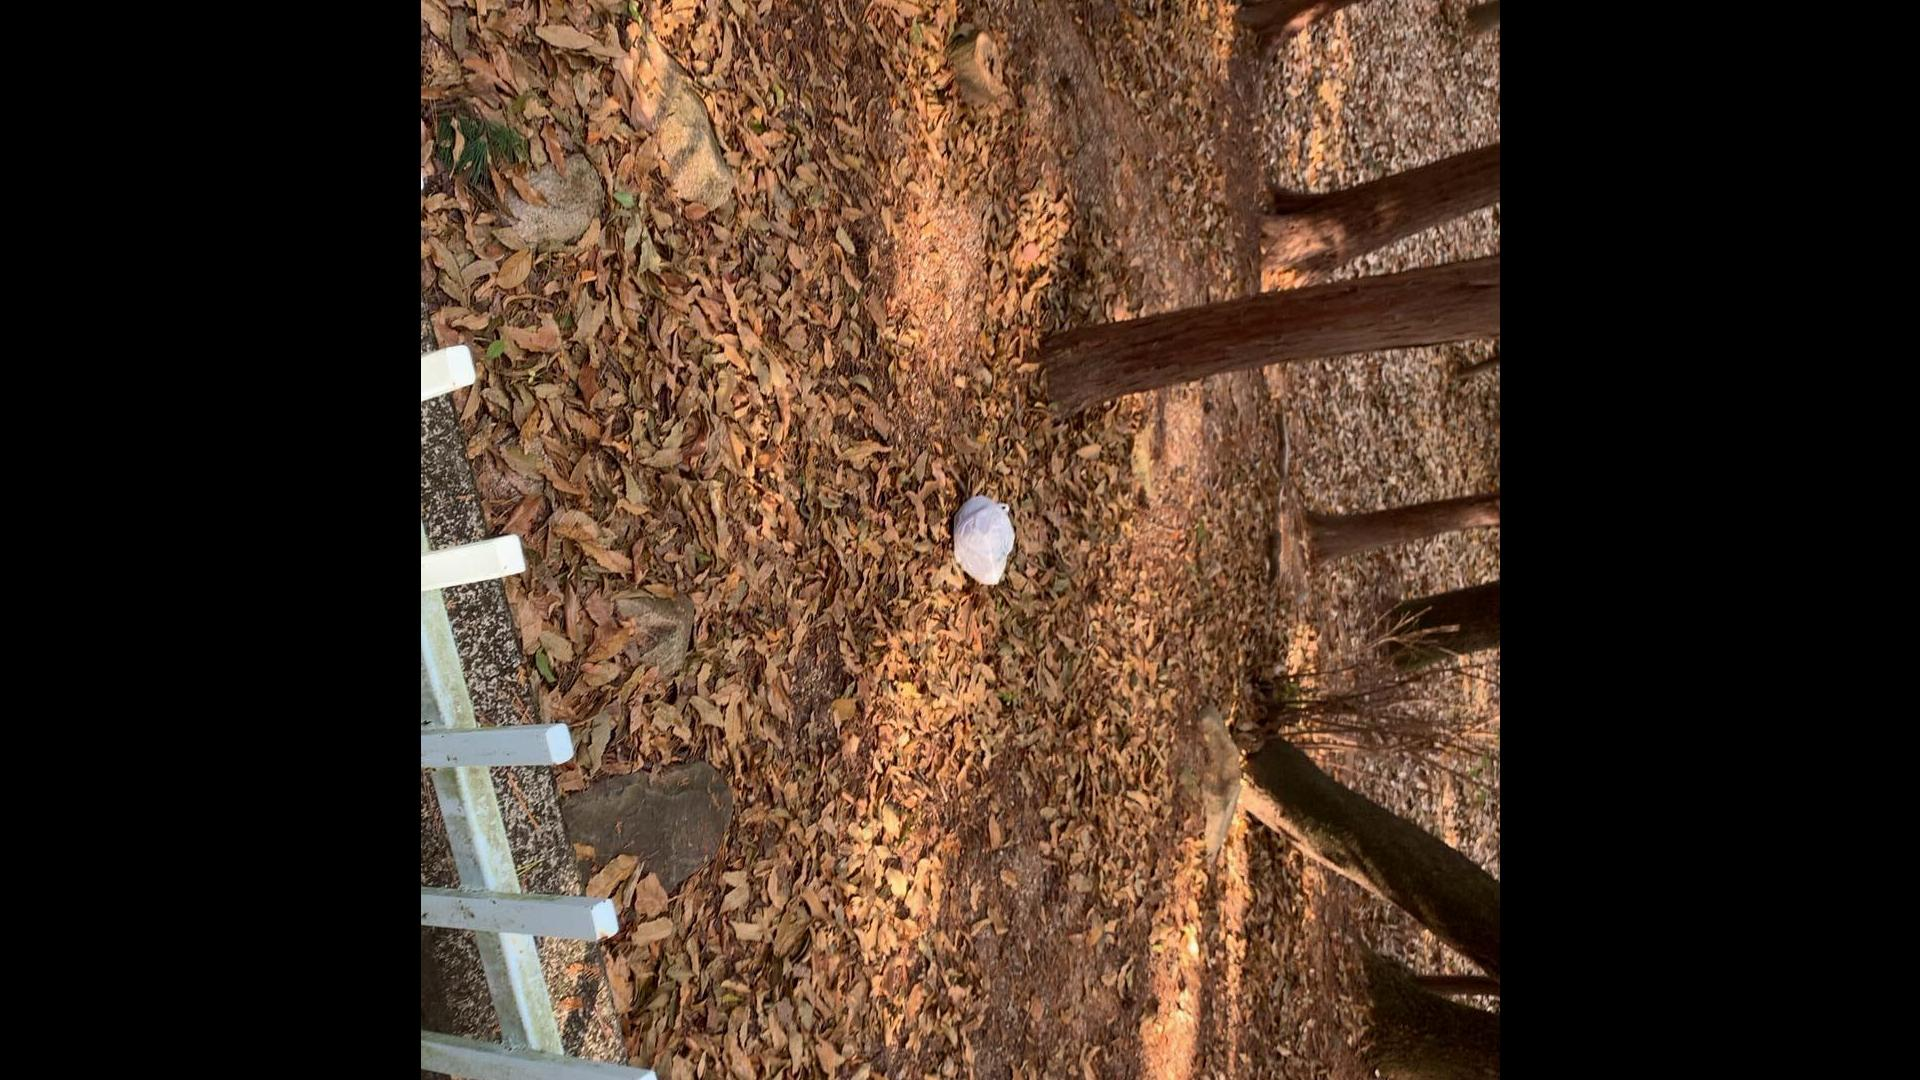white_bag: (948, 488, 1018, 591)
